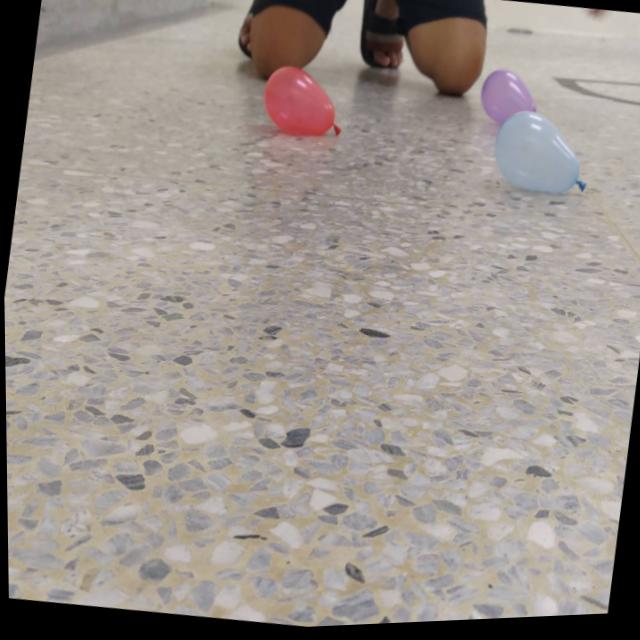other: (490, 108, 599, 205), (475, 69, 542, 136)
red: (259, 63, 351, 147)
